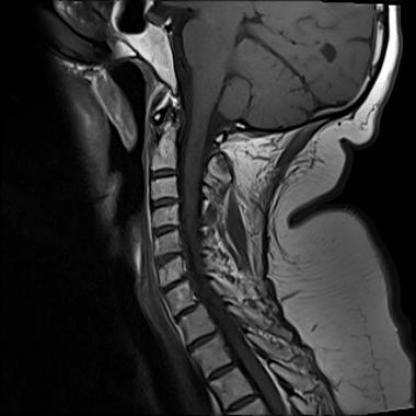Disc Protrusionrotation: (153, 250, 185, 267), (149, 196, 181, 210), (157, 278, 192, 290)
